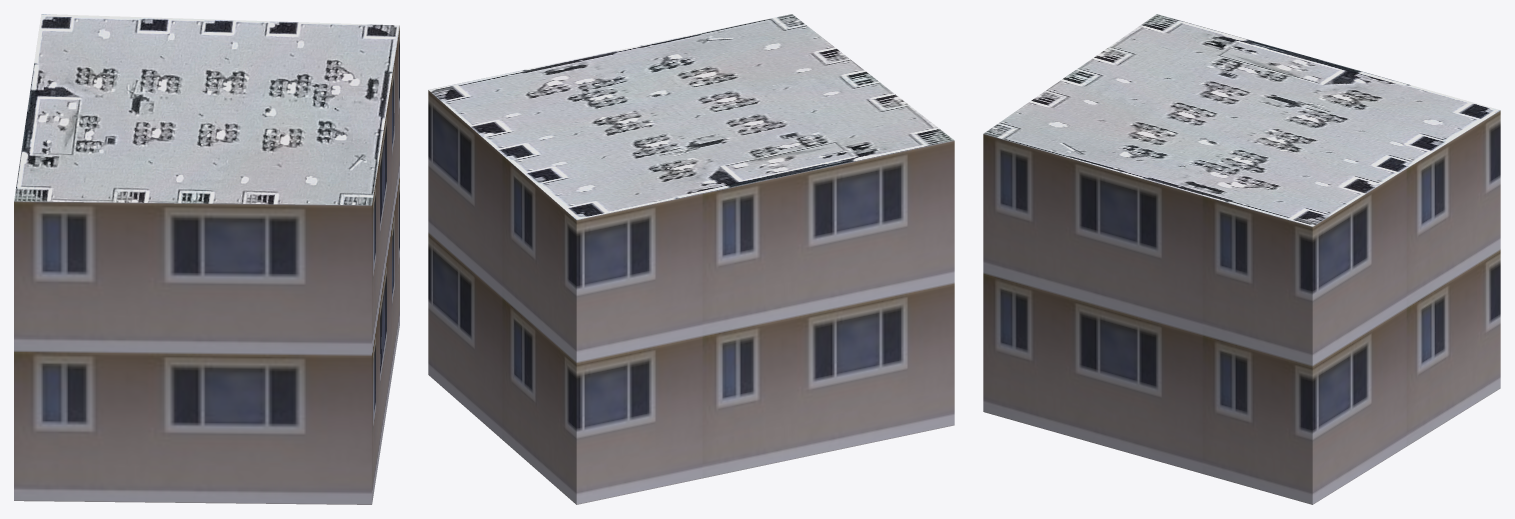
The model's file is ResTex__3828.fbx.
The picture shows the model from 3 angles, left to right: view 1: azimuth 30°, elevation 25°; view 2: azimuth 150°, elevation 25°; view 3: azimuth 270°, elevation 25°; orthographic projection. The views are drawn at different scales.
Parts seen in each view (by area): view 1: CityEngineMaterial_21_m, CityEngineMaterial_8_m; view 2: CityEngineMaterial_21_m, CityEngineMaterial_8_m; view 3: CityEngineMaterial_21_m, CityEngineMaterial_8_m.
Boxes of the visible parts, bbox=[...] form: CityEngineMaterial_21_m: bbox=[14, 26, 399, 504]; CityEngineMaterial_8_m: bbox=[14, 14, 399, 205]; CityEngineMaterial_21_m: bbox=[428, 90, 954, 504]; CityEngineMaterial_8_m: bbox=[428, 14, 954, 219]; CityEngineMaterial_21_m: bbox=[983, 110, 1500, 504]; CityEngineMaterial_8_m: bbox=[983, 14, 1500, 226].
Size of the model in its own units: 9.84 by 6 by 10.12.
2 materials, 2 textured.
